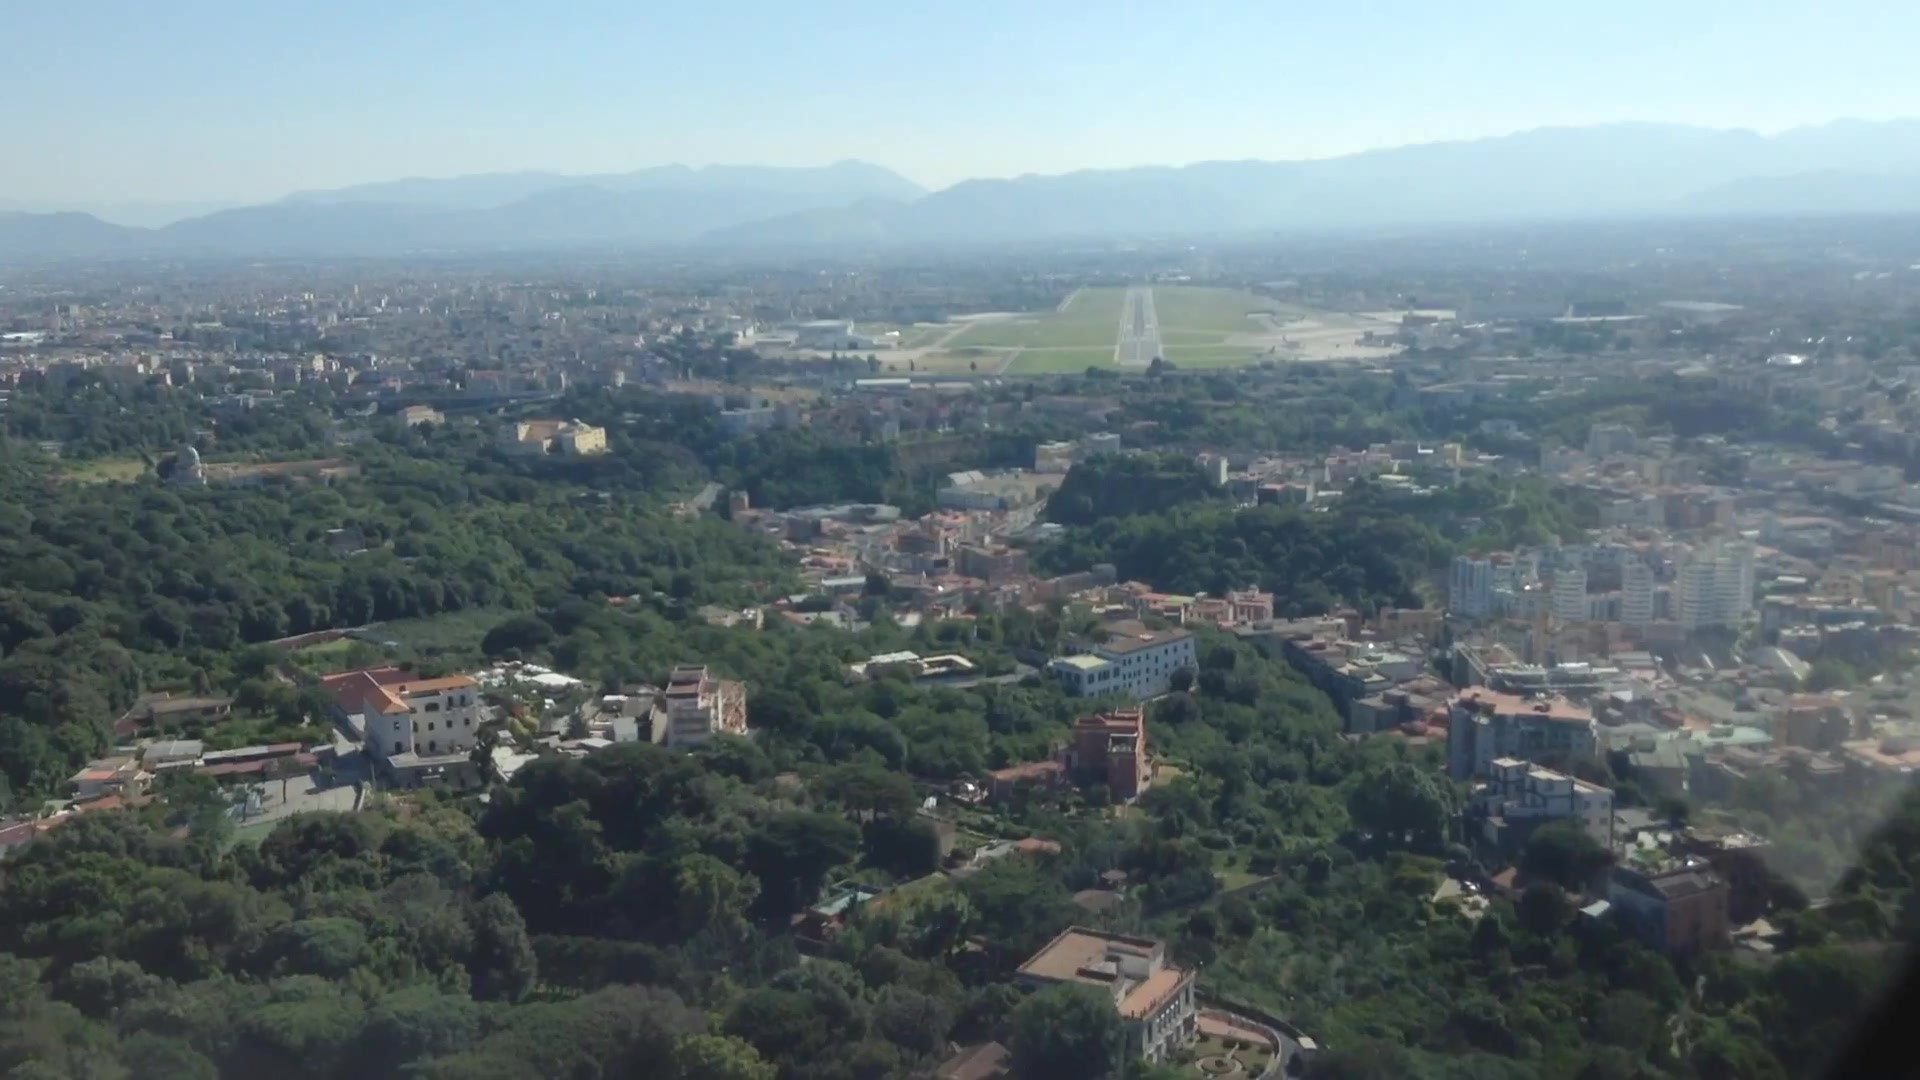runway: (1112, 287, 1164, 367)
